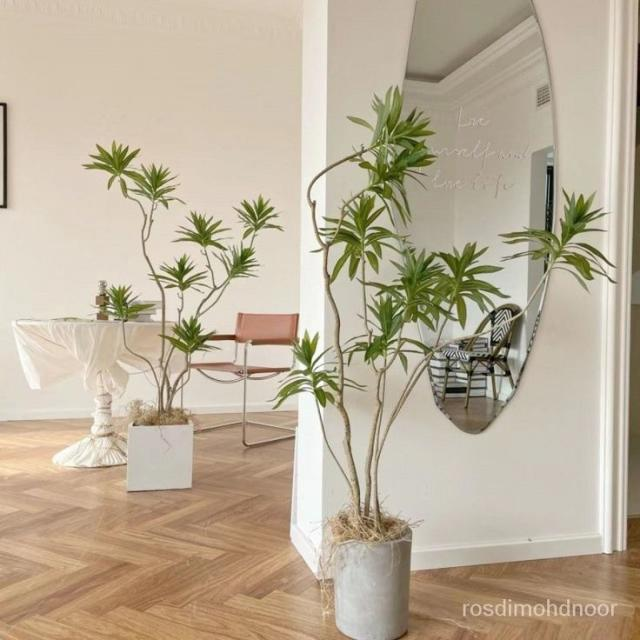obstacle: (12, 316, 178, 468), (185, 311, 300, 446)
